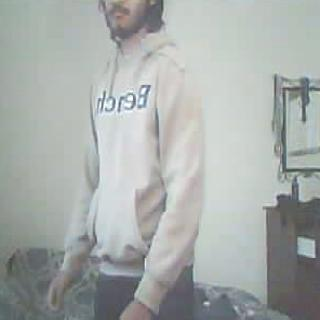Navy Sweatpants: (94, 281, 194, 320)
Yellow Hoodie: (61, 30, 204, 276)
